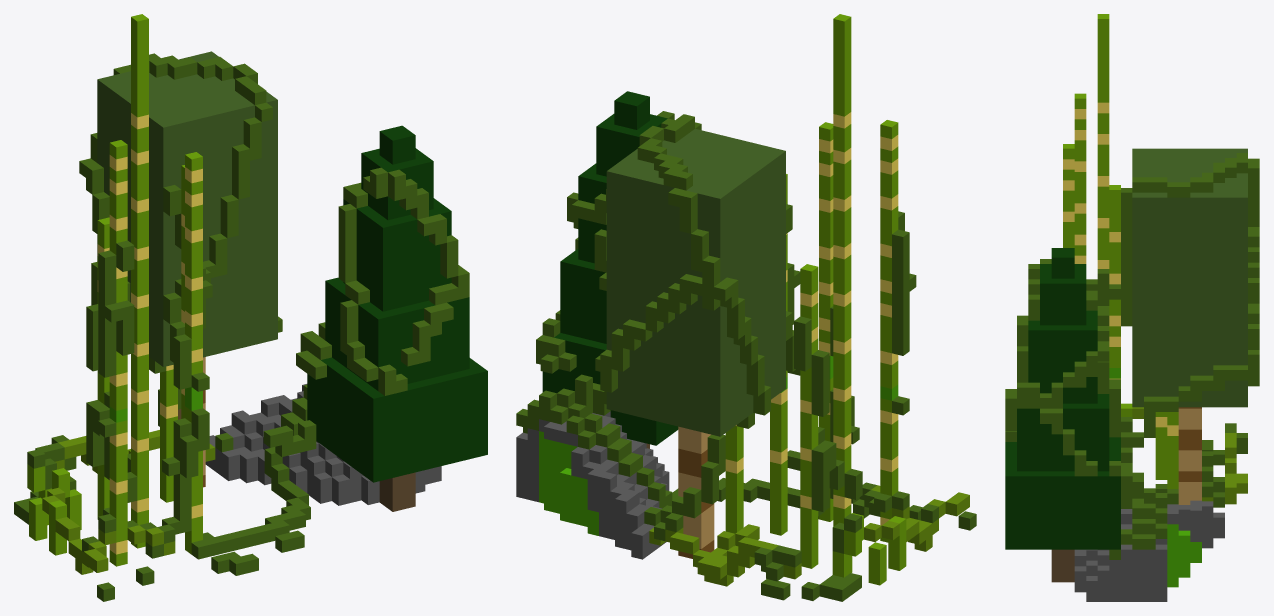
Rendered from Tiles 1 morceau 3.obj.
3 views of the same model, side by side, from view 1: azimuth 30°, elevation 25°; view 2: azimuth 150°, elevation 25°; view 3: azimuth 270°, elevation 25° (orthographic). The views are drawn at different scales.
Parts seen in each view (by area): view 1: Tiles 1 morceau 3; view 2: Tiles 1 morceau 3; view 3: Tiles 1 morceau 3.
Boxes of the visible parts, <box> form: Tiles 1 morceau 3: <box>14,14,487,601</box>; Tiles 1 morceau 3: <box>516,14,976,601</box>; Tiles 1 morceau 3: <box>1005,14,1259,601</box>.
Size of the model in its own units: 33 by 44 by 22.
1 material, 1 textured.
